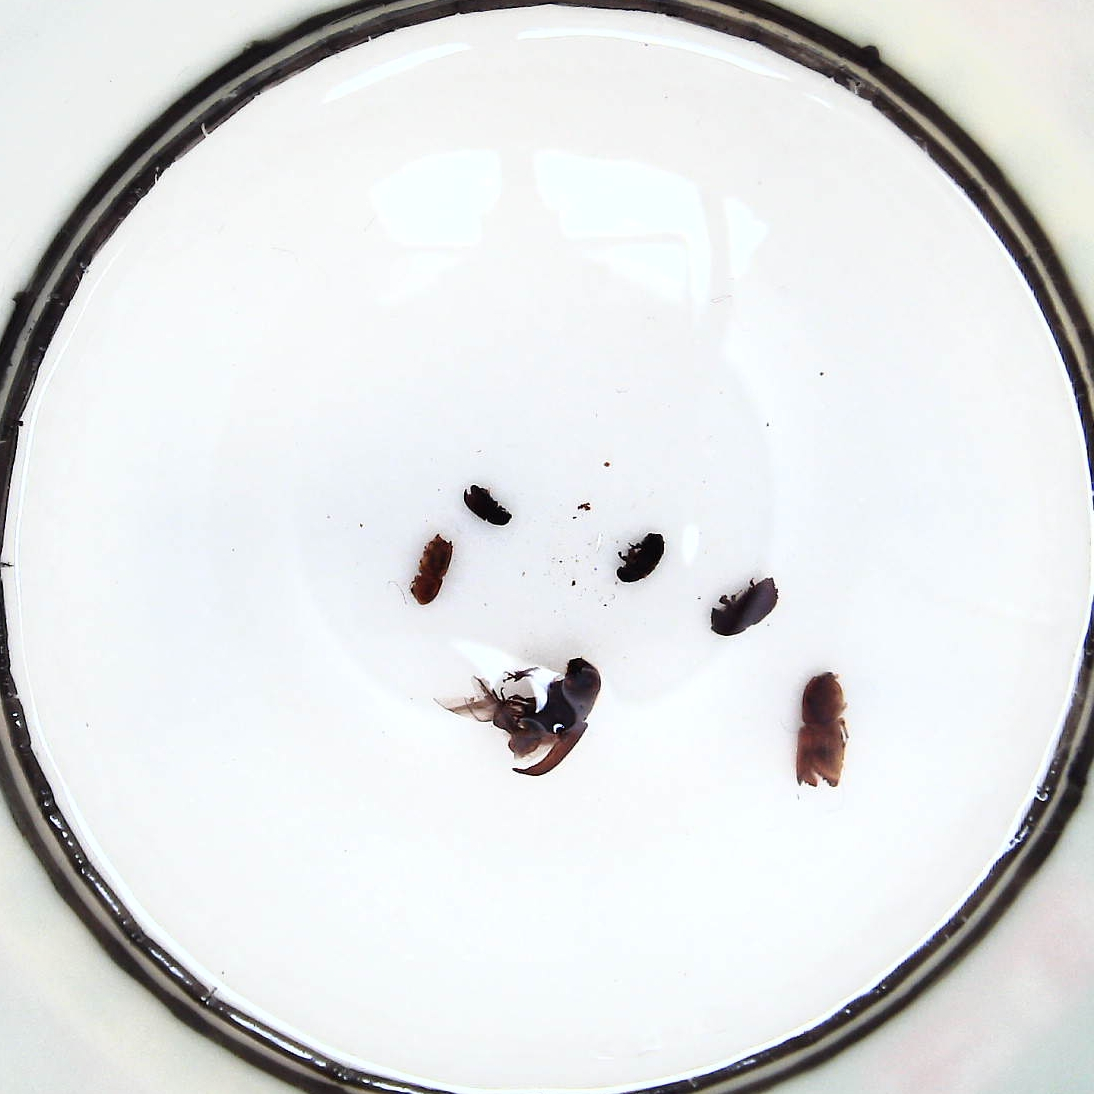Boerner: (795, 672, 845, 788)
Leconte: (491, 658, 602, 776)
acuminatus: (616, 533, 664, 583)
armandi: (710, 578, 778, 636)
coleoptera: (463, 485, 512, 526)
linnaeus: (410, 536, 452, 605)
